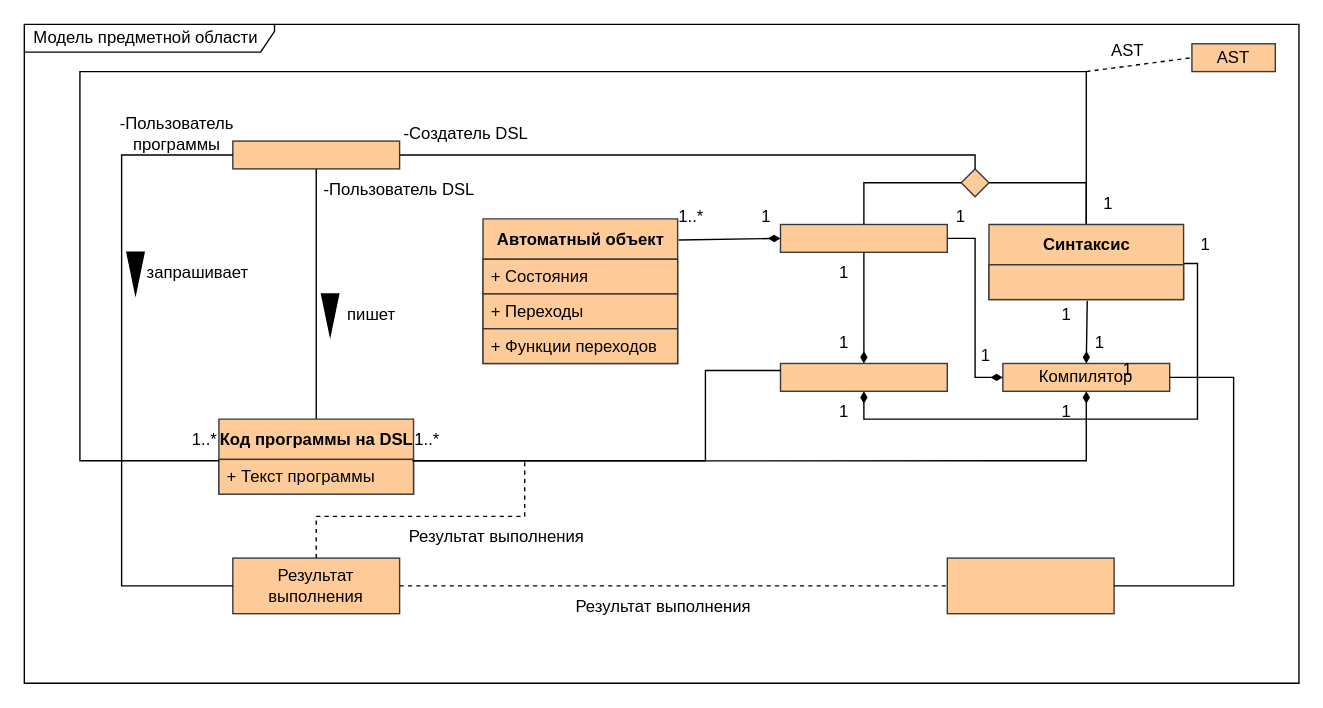
The diagram is 1323 pixels wide and 708 high, and some of its shapes have lost their labels. The centre of each missing label's shape, as x and y in pixels:
+ Грамматика: [1086,281]
Интерпретатор: [863,376]
Пользователь: [315,154]
Семантика: [863,237]
Скомпилированная программа: [1030,585]
